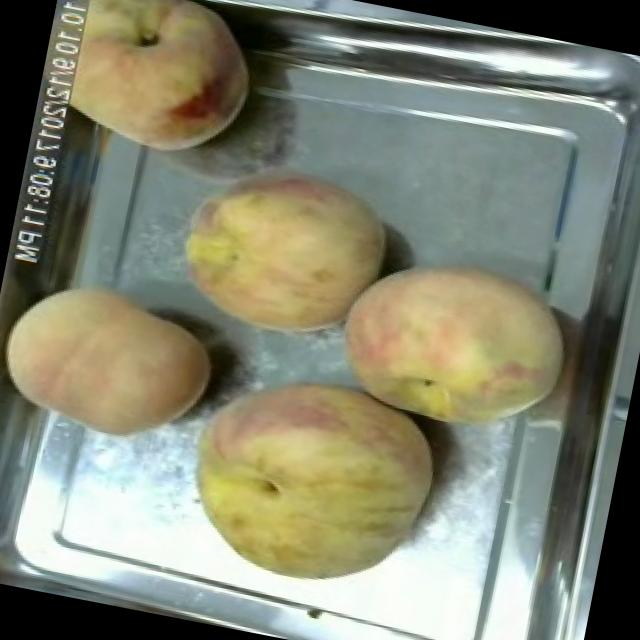Fruit: (161, 350, 456, 616), (320, 235, 586, 455), (158, 140, 408, 362), (0, 256, 233, 460), (58, 0, 274, 178)
